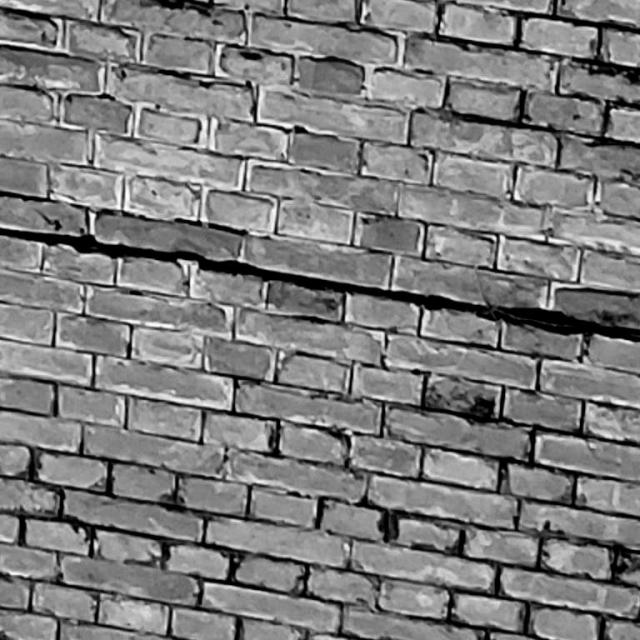crack: (1, 228, 640, 344)
